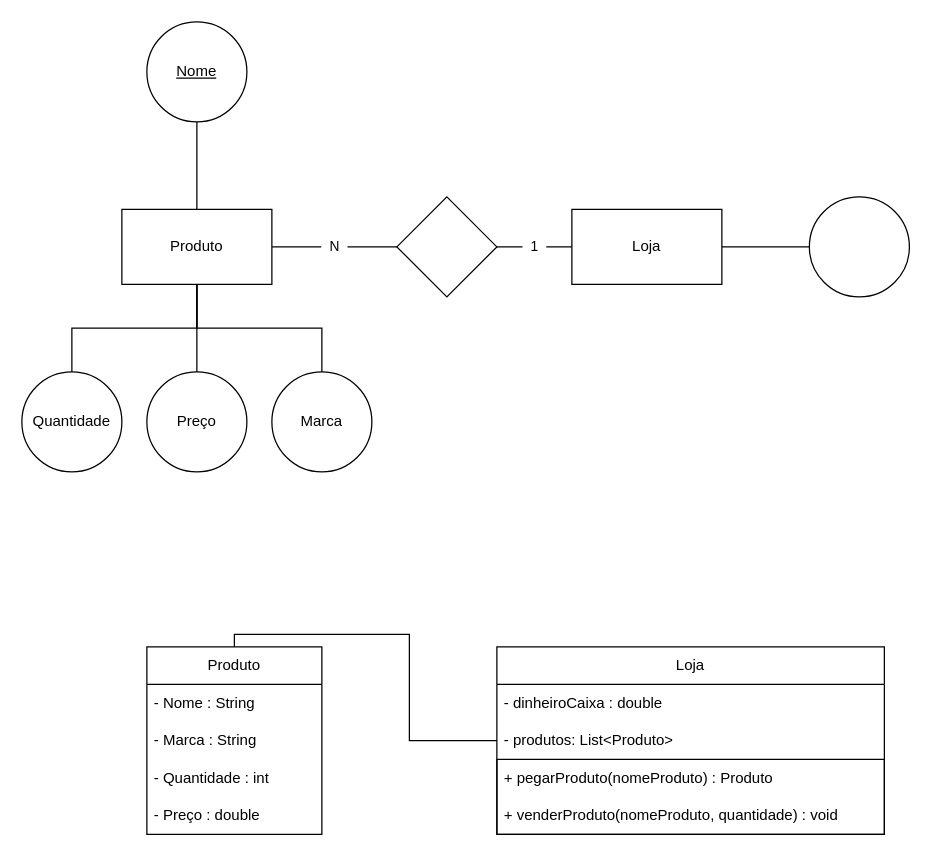
Some shapes in this 931 by 856 pixel diagram are drawn without their labels. The shapes that lost their labels are listed below. From the top down, each one's centre as x and y in pixels, then its label:
At (x=446, y=246): "Pertence".
At (x=858, y=246): "dinheiroCaixa".
